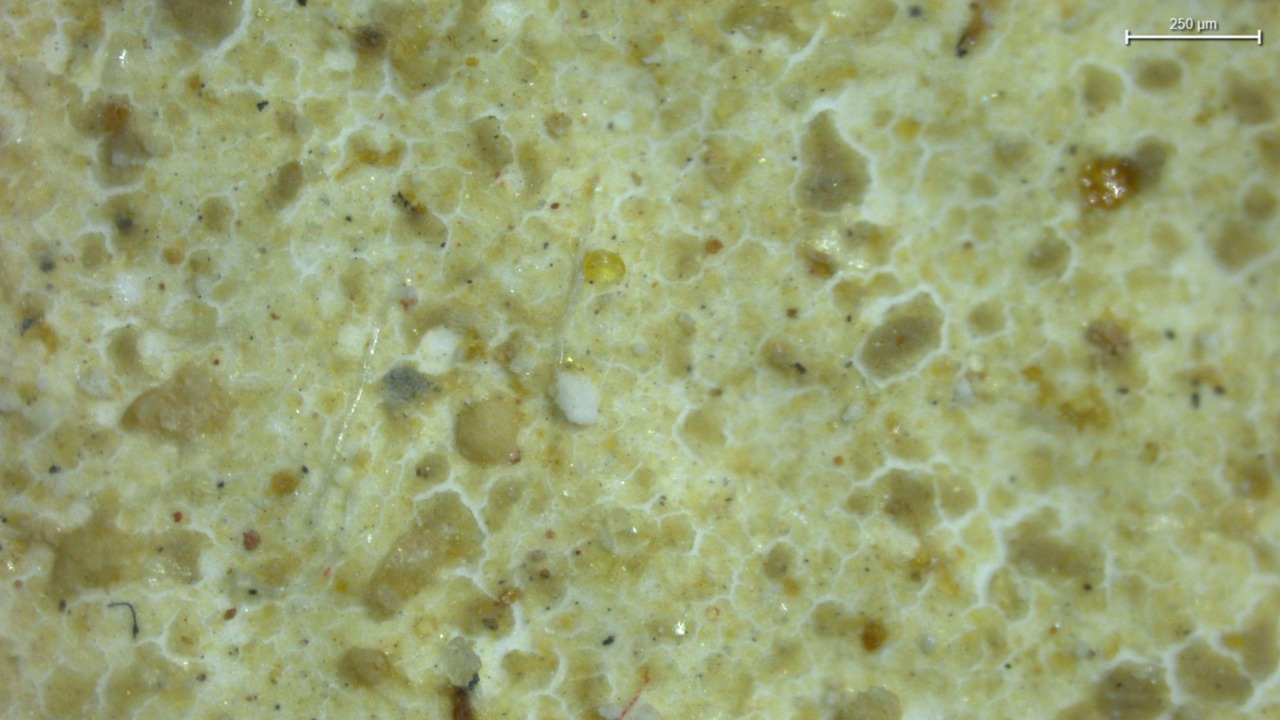microplastic_fragment: (555, 371, 599, 425)
